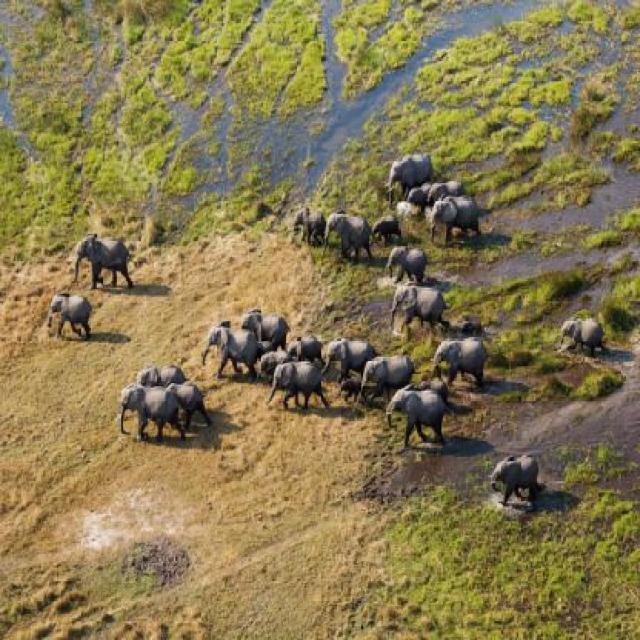elephant: (73, 210, 132, 296), (483, 443, 549, 506), (124, 381, 184, 447), (410, 202, 488, 252), (323, 202, 379, 268), (202, 318, 256, 385), (384, 140, 442, 202), (379, 386, 444, 436), (432, 330, 492, 381), (42, 292, 98, 346), (545, 309, 607, 357), (352, 348, 419, 392), (387, 284, 445, 334), (271, 363, 326, 415), (318, 330, 380, 370), (380, 238, 431, 284), (164, 381, 210, 430), (130, 357, 182, 395), (286, 202, 328, 244), (420, 174, 462, 206), (254, 314, 295, 346), (374, 215, 406, 250), (294, 325, 321, 360), (256, 344, 290, 370)
